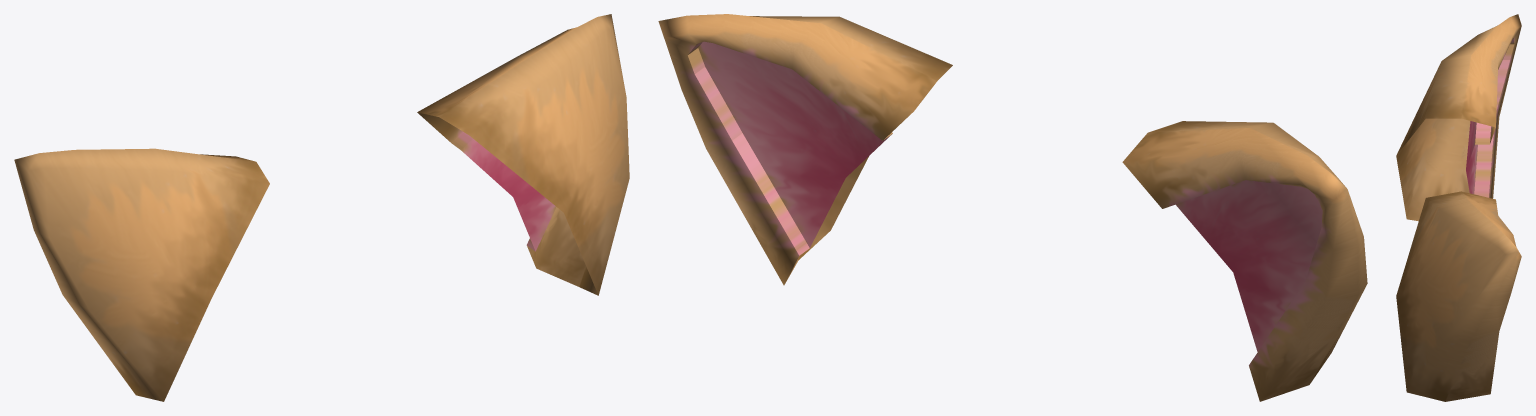
The model's file is Props_CatEars.fbx.
The picture shows the model from 3 angles, left to right: view 1: azimuth 30°, elevation 25°; view 2: azimuth 150°, elevation 25°; view 3: azimuth 270°, elevation 25°; orthographic projection. The views are drawn at different scales.
Parts seen in each view (by area): view 1: CatEarsLeft, CatEarsRight; view 2: CatEarsRight, CatEarsLeft; view 3: CatEarsRight, CatEarsLeft.
Boxes of the visible parts, bbox=[...] form: CatEarsLeft: bbox=[14, 148, 269, 401]; CatEarsRight: bbox=[417, 14, 629, 295]; CatEarsRight: bbox=[658, 14, 952, 285]; CatEarsLeft: bbox=[1122, 121, 1367, 401]; CatEarsRight: bbox=[1396, 191, 1521, 401]; CatEarsLeft: bbox=[1396, 14, 1521, 221].
Size of the model in its own units: 23.13 by 8.5 by 5.16.
